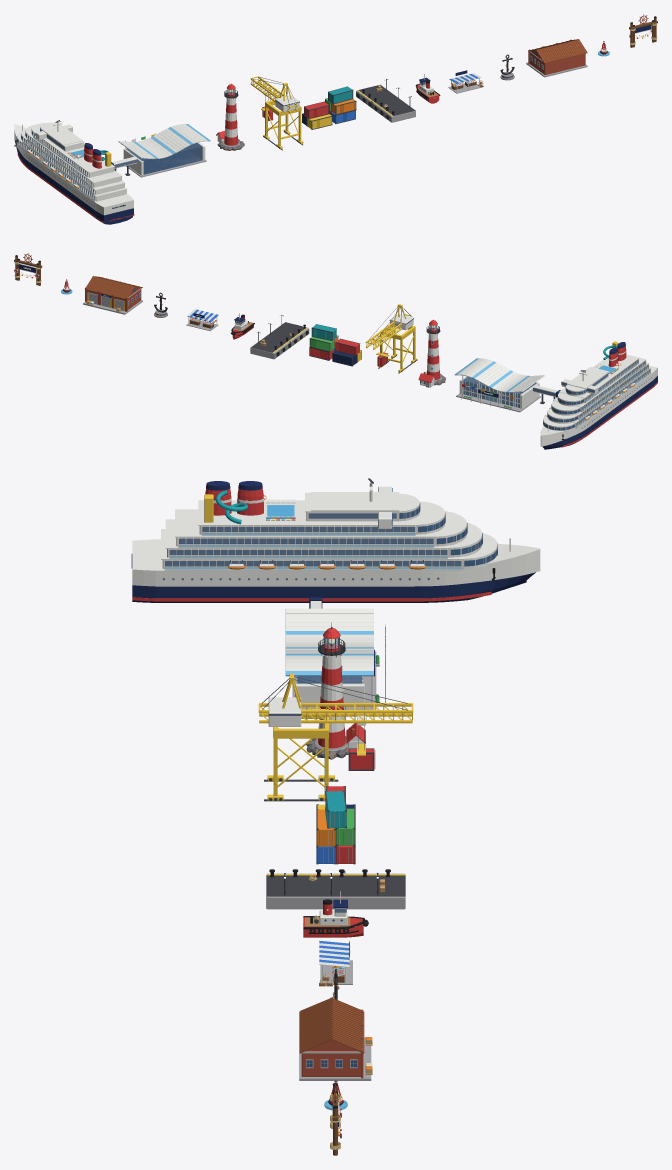
File: CruiseShip.fbx
The picture shows the model from 3 angles, top to bottom: view 1: azimuth 30°, elevation 25°; view 2: azimuth 150°, elevation 25°; view 3: azimuth 270°, elevation 25°; orthographic projection. The views are drawn at different scales.
Visible parts, largest first — view 1: CruiseShip_White, HarborTerminal_White, CargoCrane_Yellow, HarborTerminal_GlassDark, CruiseShip_Navy, Warehouse_Rust, Warehouse_Brick, DockPier_Asphalt, CruiseShip_GlassDark, ContainerStack_DarkMetal, CruiseShip_Glass, CruiseShip_Red (+3 smaller); view 2: CruiseShip_White, HarborTerminal_White, CargoCrane_Yellow, CruiseShip_GlassDark, CruiseShip_Navy, Warehouse_Rust, HarborTerminal_GlassDark, DockPier_Asphalt, HarborTerminal_Concrete, ContainerStack_Red, CruiseShip_Glass, Lighthouse_Red (+7 smaller); view 3: CruiseShip_White, CruiseShip_GlassDark, CruiseShip_Navy, HarborTerminal_White, CargoCrane_Yellow, CruiseShip_Glass, DockPier_Asphalt, Warehouse_Rust, CruiseShip_Red, DockPier_Concrete, Warehouse_Brick, Lighthouse_Red (+5 smaller).
Part boxes in pixels (box(x1,y1,x2,y2)): CruiseShip_White: box(14, 122, 133, 215); HarborTerminal_White: box(112, 124, 207, 175); CargoCrane_Yellow: box(250, 76, 303, 149); HarborTerminal_GlassDark: box(114, 142, 202, 174); CruiseShip_Navy: box(16, 143, 133, 224); Warehouse_Rust: box(528, 39, 587, 63); Warehouse_Brick: box(528, 39, 585, 74); DockPier_Asphalt: box(358, 84, 415, 115); CruiseShip_GlassDark: box(16, 127, 94, 206); ContainerStack_DarkMetal: box(302, 86, 356, 129); CruiseShip_Glass: box(18, 136, 94, 200); CruiseShip_Red: box(17, 146, 134, 222); CruiseShip_White: box(540, 350, 657, 446); HarborTerminal_White: box(457, 358, 557, 410); CargoCrane_Yellow: box(365, 304, 417, 372); CruiseShip_GlassDark: box(543, 360, 651, 430); CruiseShip_Navy: box(542, 342, 657, 449); Warehouse_Rust: box(84, 276, 142, 299); HarborTerminal_GlassDark: box(463, 376, 555, 407); DockPier_Asphalt: box(251, 322, 306, 352); HarborTerminal_Concrete: box(456, 383, 540, 412); ContainerStack_Red: box(309, 339, 359, 359); CruiseShip_Glass: box(576, 363, 650, 427); Lighthouse_Red: box(418, 320, 440, 382); CruiseShip_White: box(132, 482, 540, 586); CruiseShip_GlassDark: box(162, 488, 497, 580); CruiseShip_Navy: box(131, 481, 535, 602); HarborTerminal_White: box(285, 601, 385, 709); CargoCrane_Yellow: box(258, 673, 413, 800); CruiseShip_Glass: box(165, 533, 461, 569); DockPier_Asphalt: box(266, 875, 405, 896); Warehouse_Rust: box(299, 997, 364, 1053); CruiseShip_Red: box(132, 488, 491, 601); DockPier_Concrete: box(266, 873, 405, 909); Warehouse_Brick: box(301, 1009, 363, 1078); Lighthouse_Red: box(318, 628, 365, 748).
Size of the model in its own units: 592 by 60.23 by 176.
